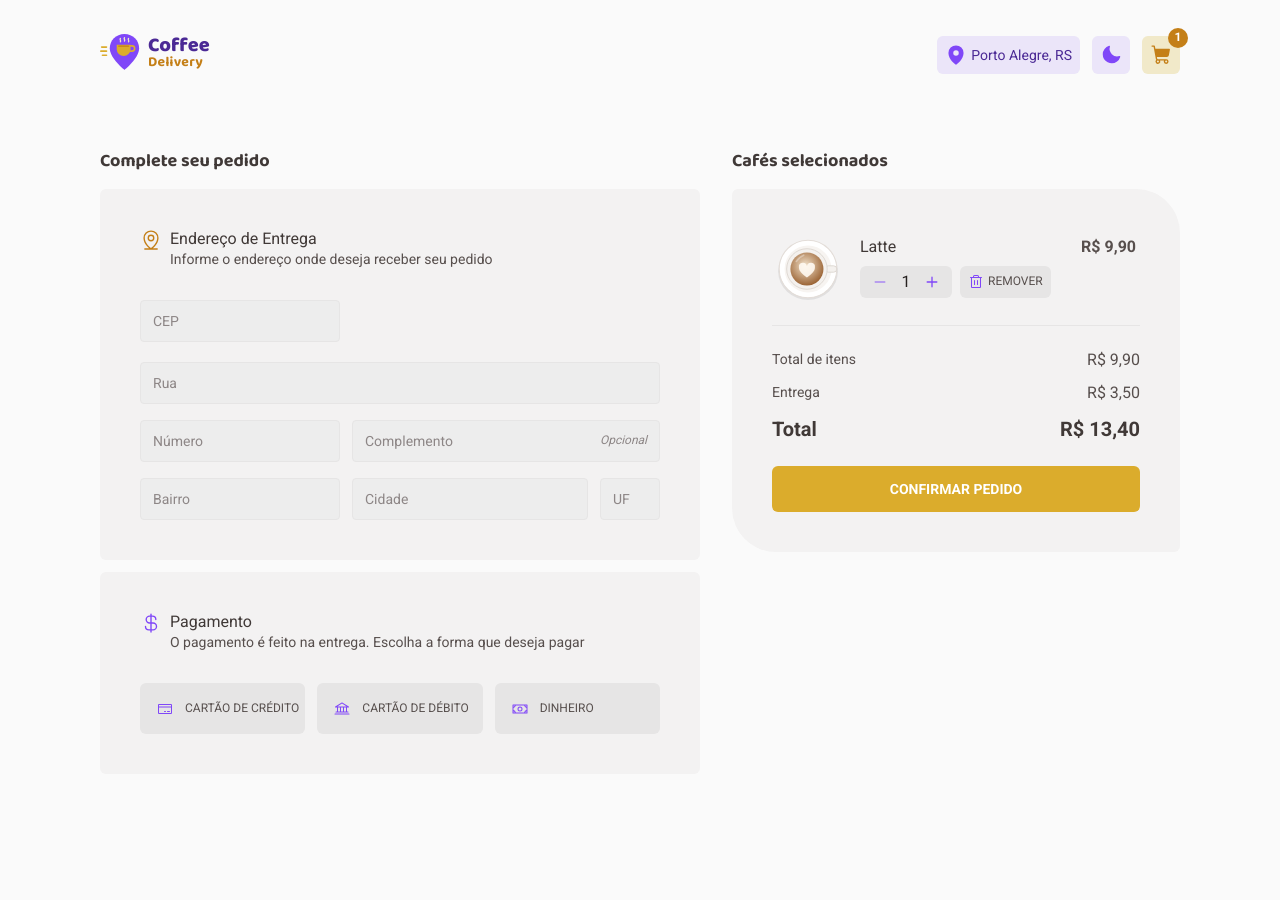
Test: Checkout › RN-07: em falha da API permite preencher manualmente e confirmar
Step 1. Type "12345678" into the field labelled "CEP" → x=240, y=321, box [153, 301, 327, 341]
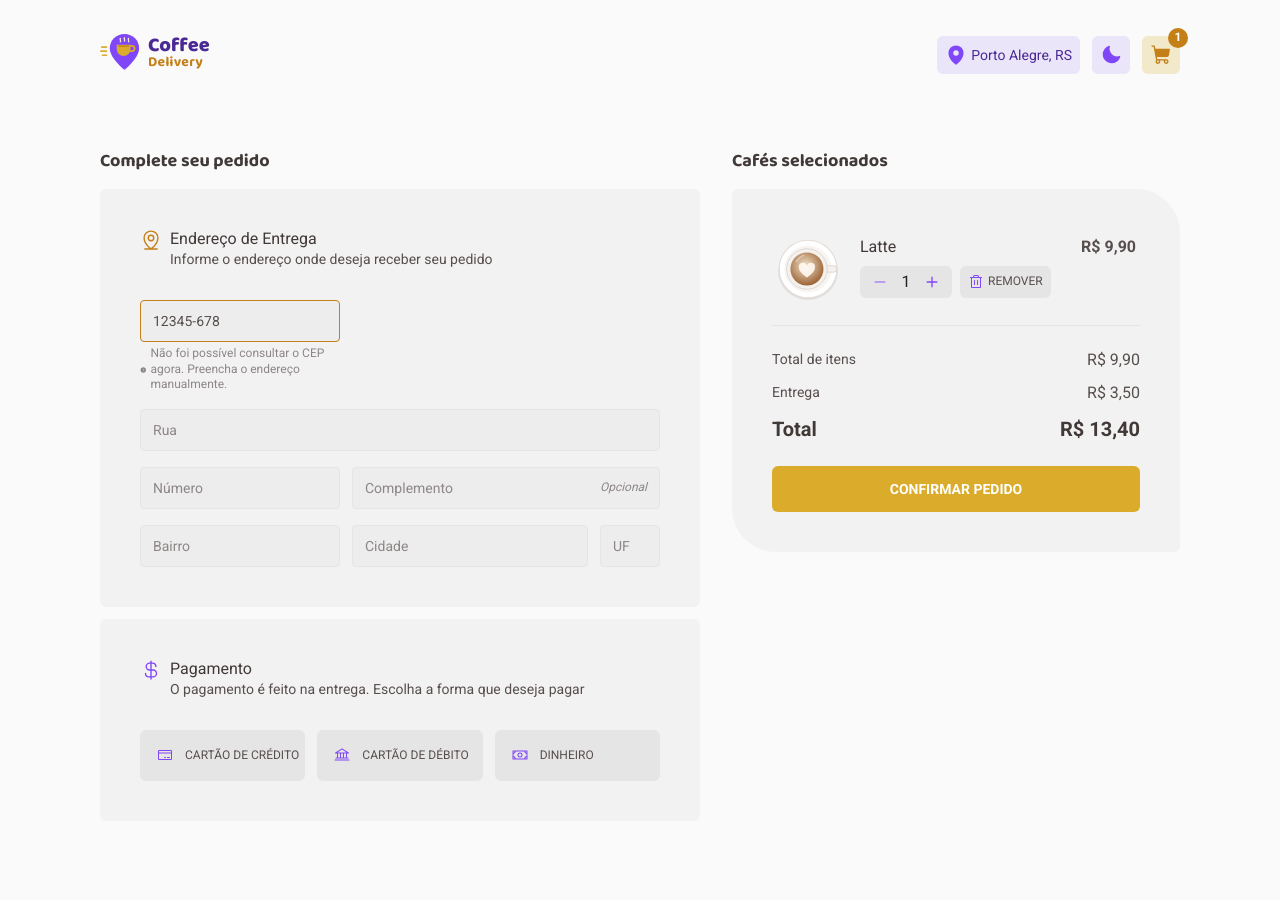
Expected: the text "Não foi possível consultar o CEP" is shown, [150, 346, 324, 391]
Step 2. Type "Rua das Flores" into the field labelled "Rua" → x=400, y=430, box [153, 410, 647, 450]
Step 3. Type "12" into the field labelled "Número" → x=240, y=488, box [153, 468, 327, 508]
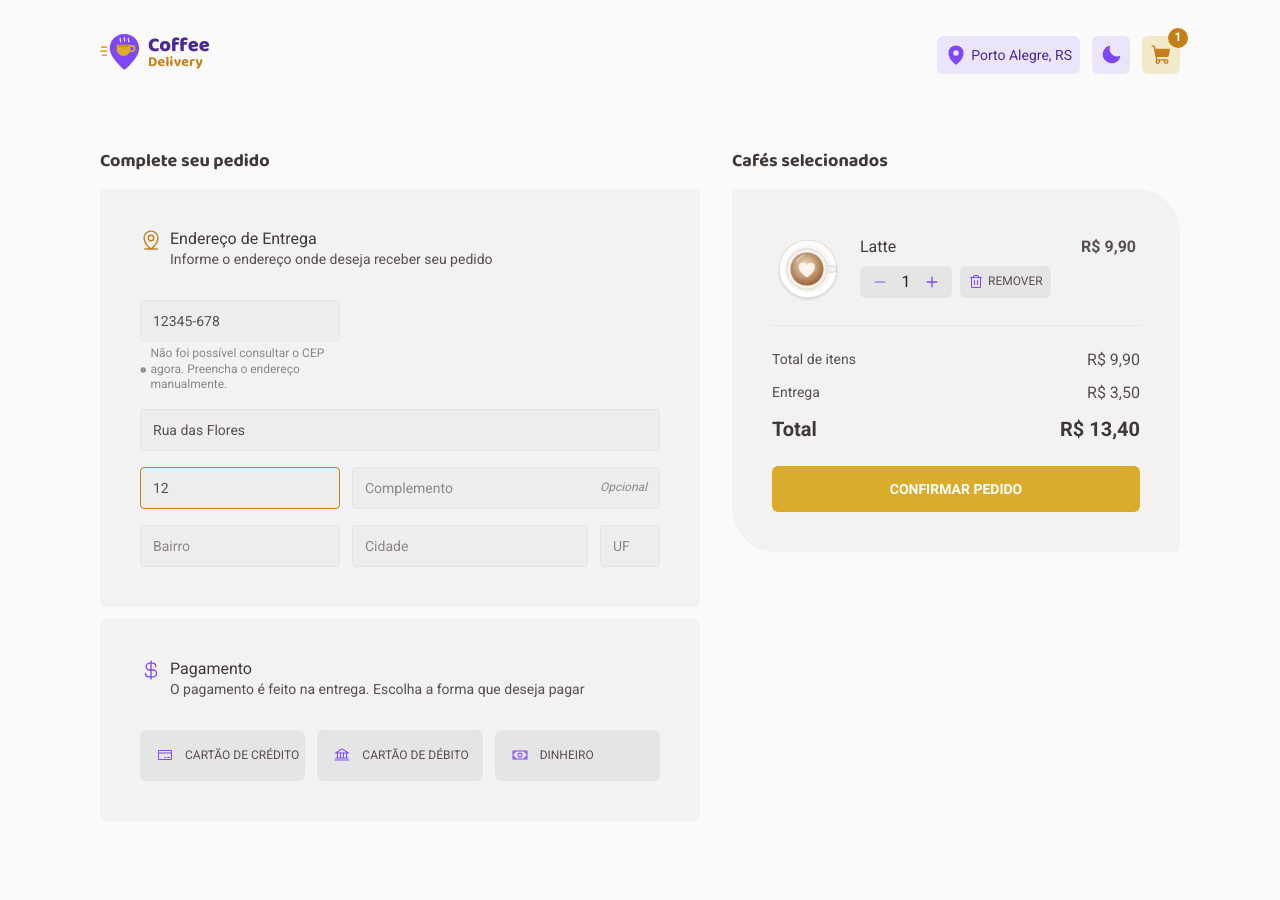
Step 4. Type "Centro" into the field labelled "Bairro" → x=240, y=546, box [153, 526, 327, 566]
Step 5. Type "Curitiba" into the field labelled "Cidade" → x=470, y=546, box [365, 526, 575, 566]
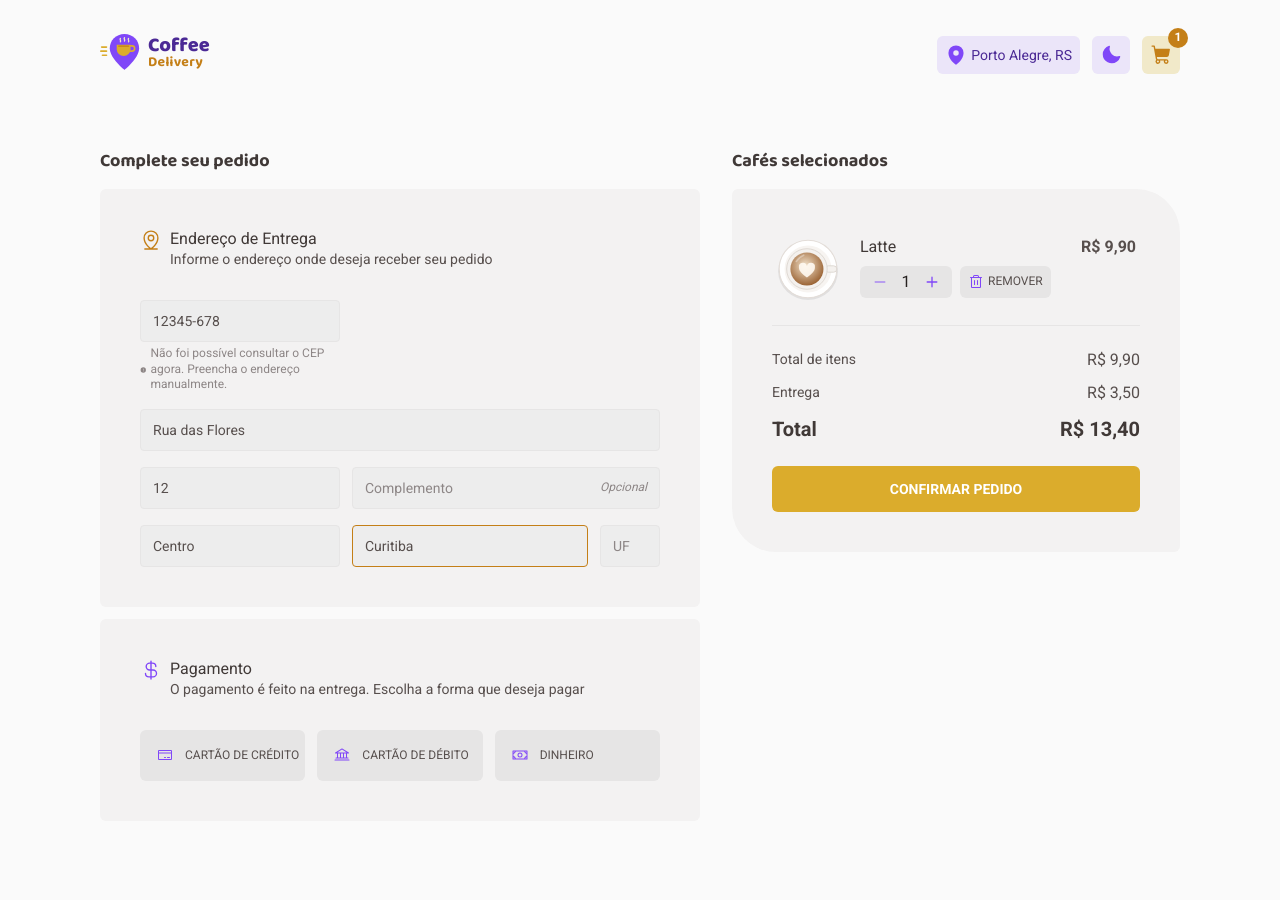
Step 6. Type "pr" into the field labelled "UF" → x=630, y=546, box [613, 526, 647, 566]
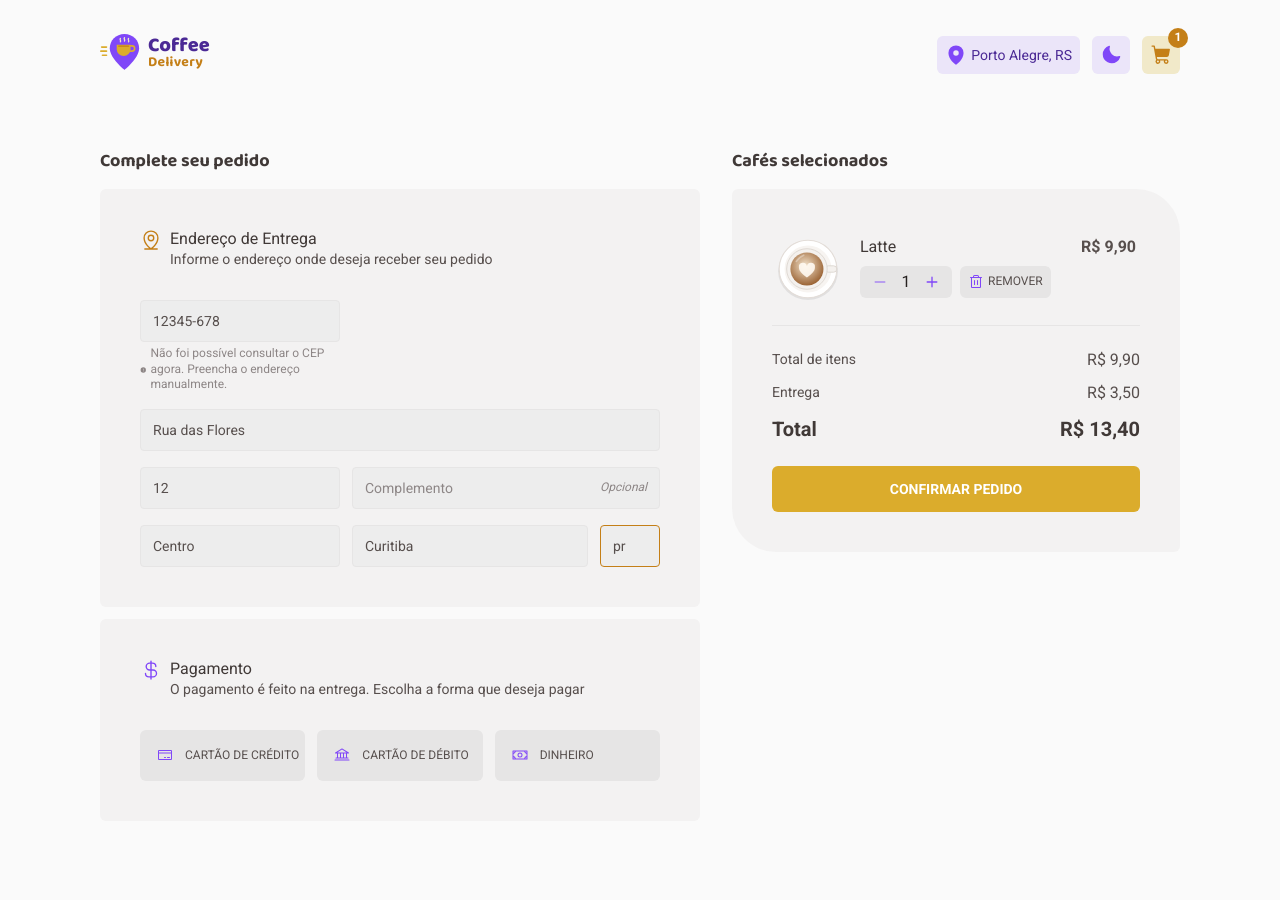
Step 7. Click the text "Cartão de débito" → x=400, y=755, box [317, 730, 483, 781]
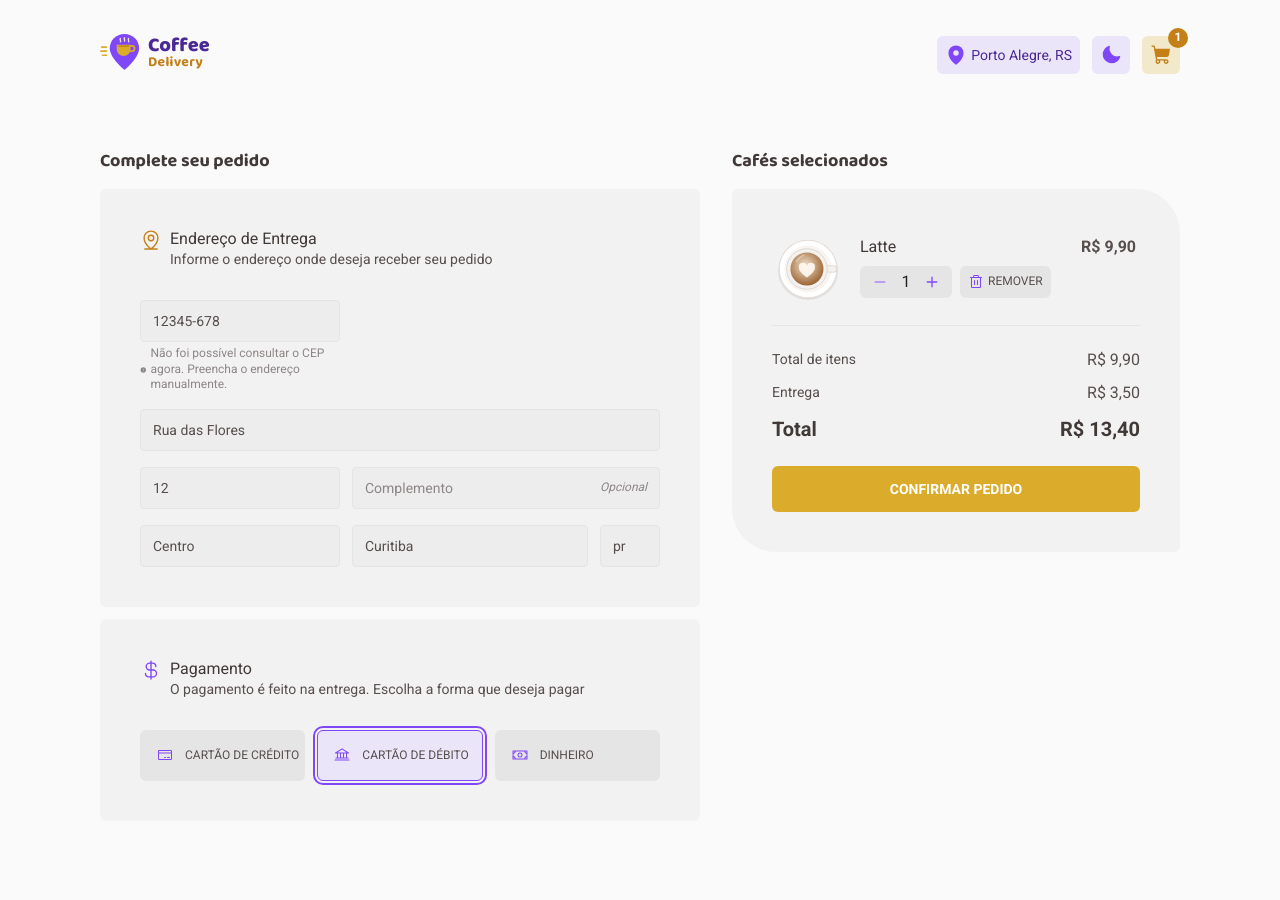
Step 8. Click the button "Confirmar pedido" → x=956, y=489, box [772, 466, 1140, 512]
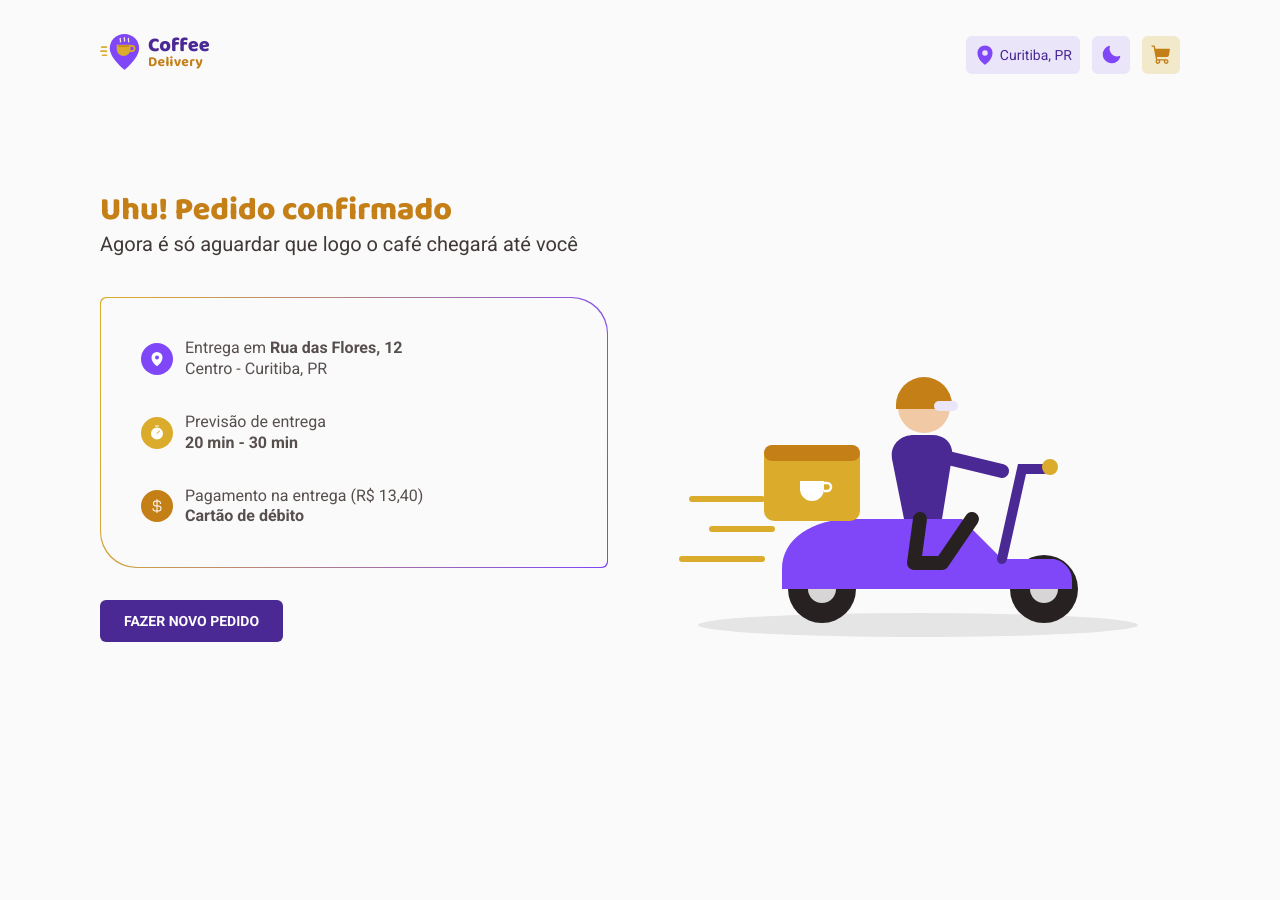
Expected: the heading "Uhu! Pedido confirmado" is shown, [100, 185, 452, 236]
Expected: the text "Rua das Flores, 12" is shown, [270, 338, 402, 357]
Expected: the text "Entrega em Rua das Flores, 12Centro - Curitiba, PR" is shown, [185, 338, 402, 380]
